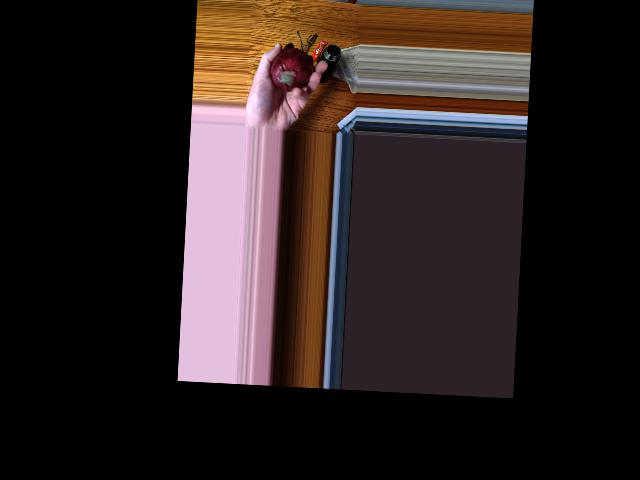onion: (268, 49, 307, 97)
